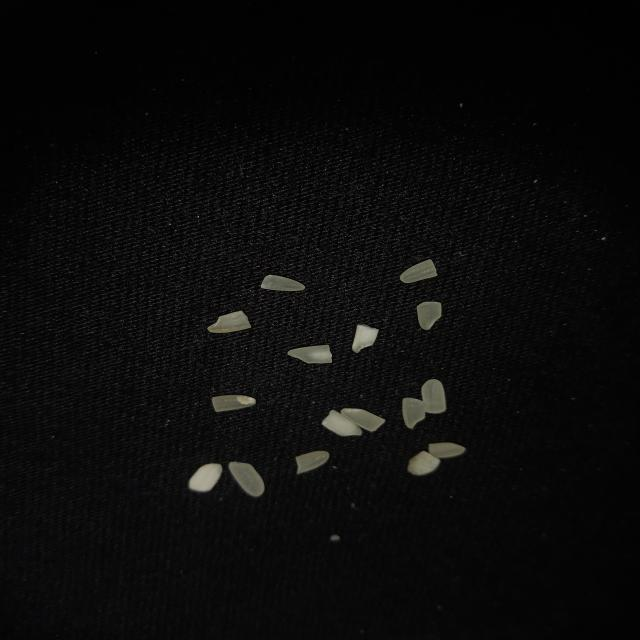Broken: (341, 408, 386, 432), (322, 410, 362, 436), (188, 463, 223, 492), (207, 311, 252, 333), (421, 378, 447, 414), (400, 259, 438, 283), (288, 344, 332, 364), (295, 450, 330, 474), (408, 450, 440, 476), (261, 274, 306, 292), (352, 324, 379, 353), (212, 395, 256, 412), (402, 398, 426, 428), (417, 302, 442, 330), (428, 442, 466, 458)
Full: (229, 462, 266, 497)
